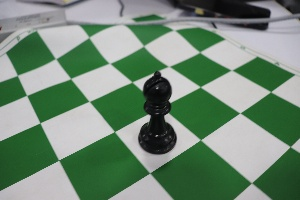black_bishop: (132, 63, 184, 160)
